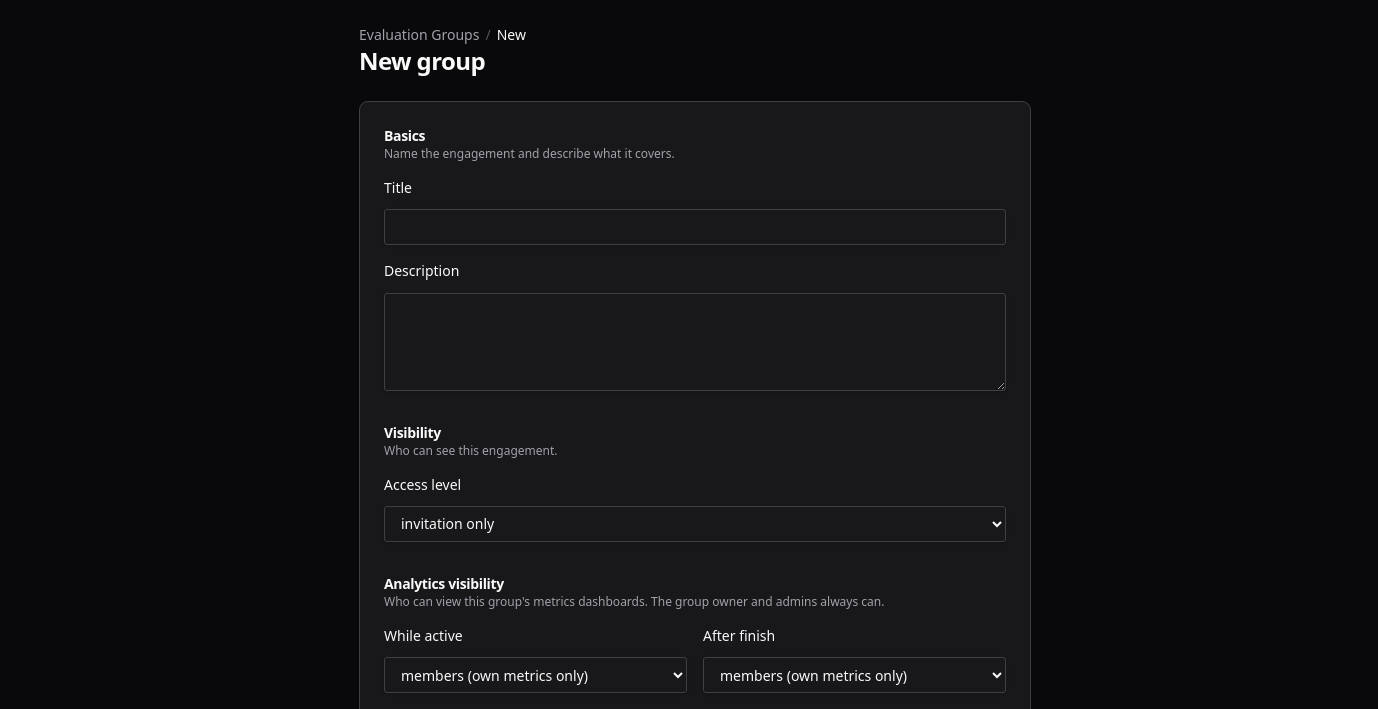
Test: EvaluationGroupFormPage — draft & public confirm › Save as draft is disabled until a title is entered
Step 1. Type "x" into the field labelled "Title" → (695, 227), box [384,209,1006,245]
(page scrolled)
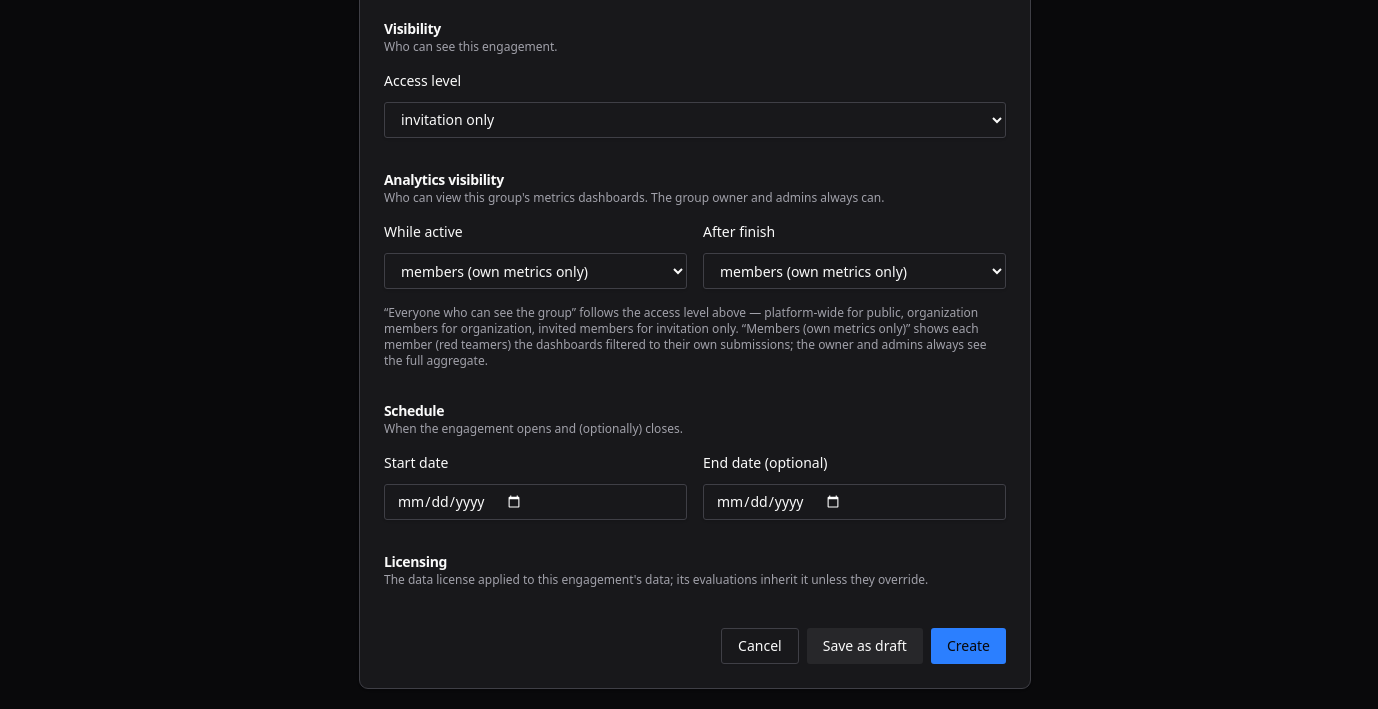
expect the button "Save as draft" is enabled: met, box [807,628,923,664]
